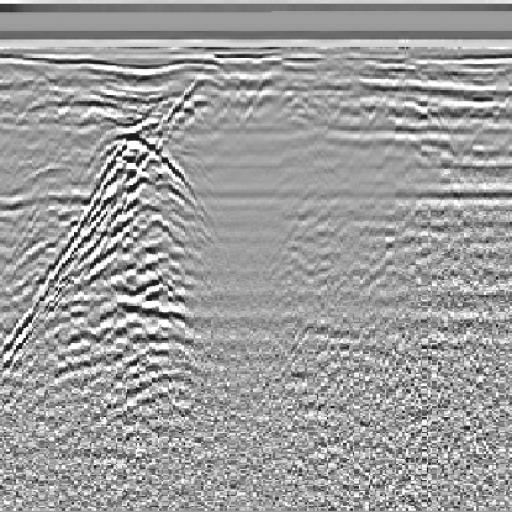metalic: (54, 79, 229, 439)
